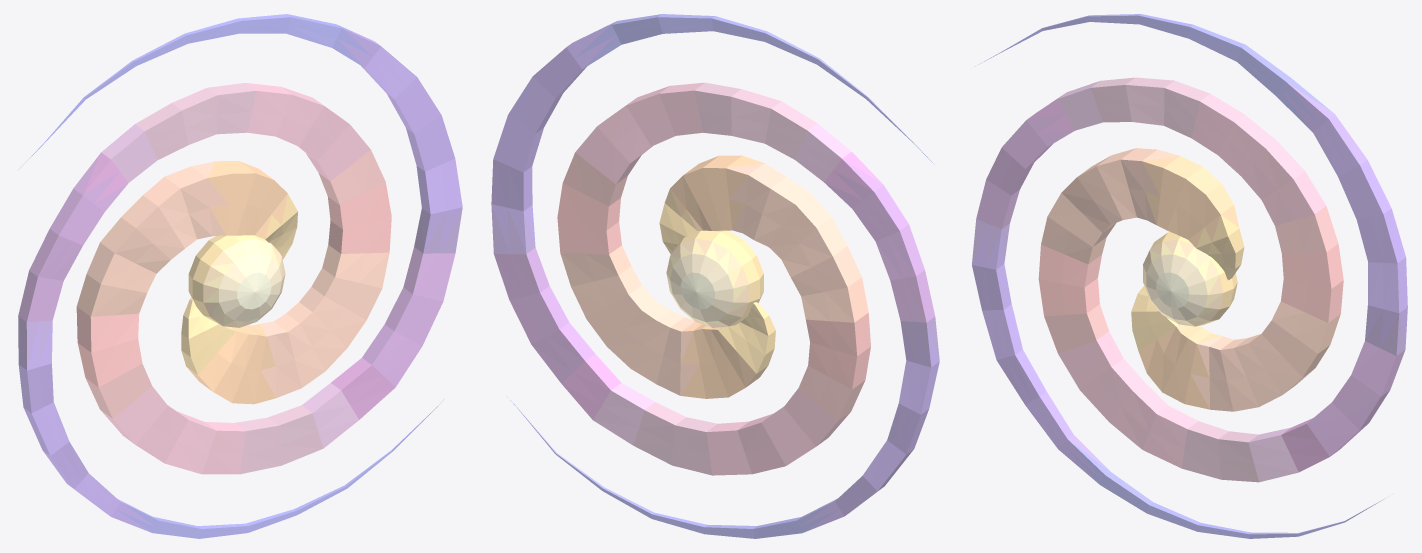
Rendered from galaxy-005.glb.
3 renders of one model, left to right at view 1: azimuth 30°, elevation 25°; view 2: azimuth 150°, elevation 25°; view 3: azimuth 330°, elevation 25°, orthographic. The views are drawn at different scales.
Parts seen in each view (by area): view 1: galaxy-005; view 2: galaxy-005; view 3: galaxy-005.
Boxes of the visible parts, x1,y1,x2,y2 form: galaxy-005: [18, 14, 462, 538]; galaxy-005: [491, 14, 939, 538]; galaxy-005: [972, 14, 1407, 538].
Bounding box in the file's own units: 111 × 122 × 16.44.
